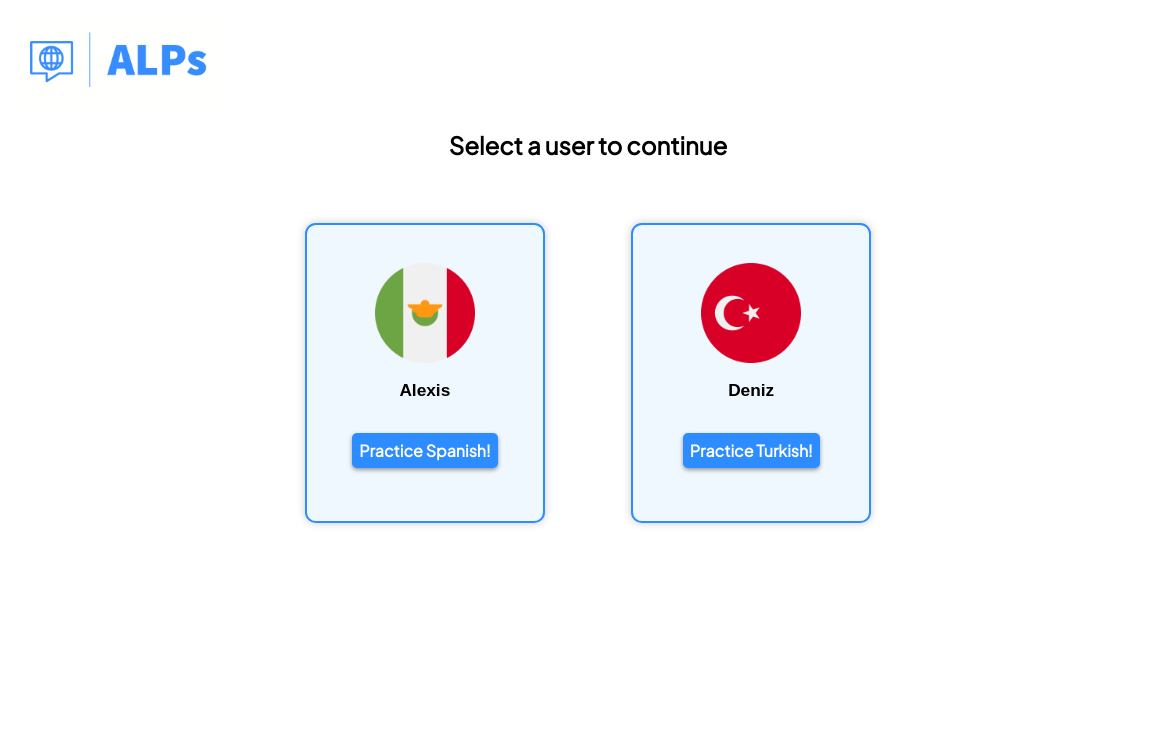
Test: Dashboard flow › should let you view Alexis's dashboard
Click the button "Practice Spanish!".
click(425, 451)  # box [352,433,498,468]
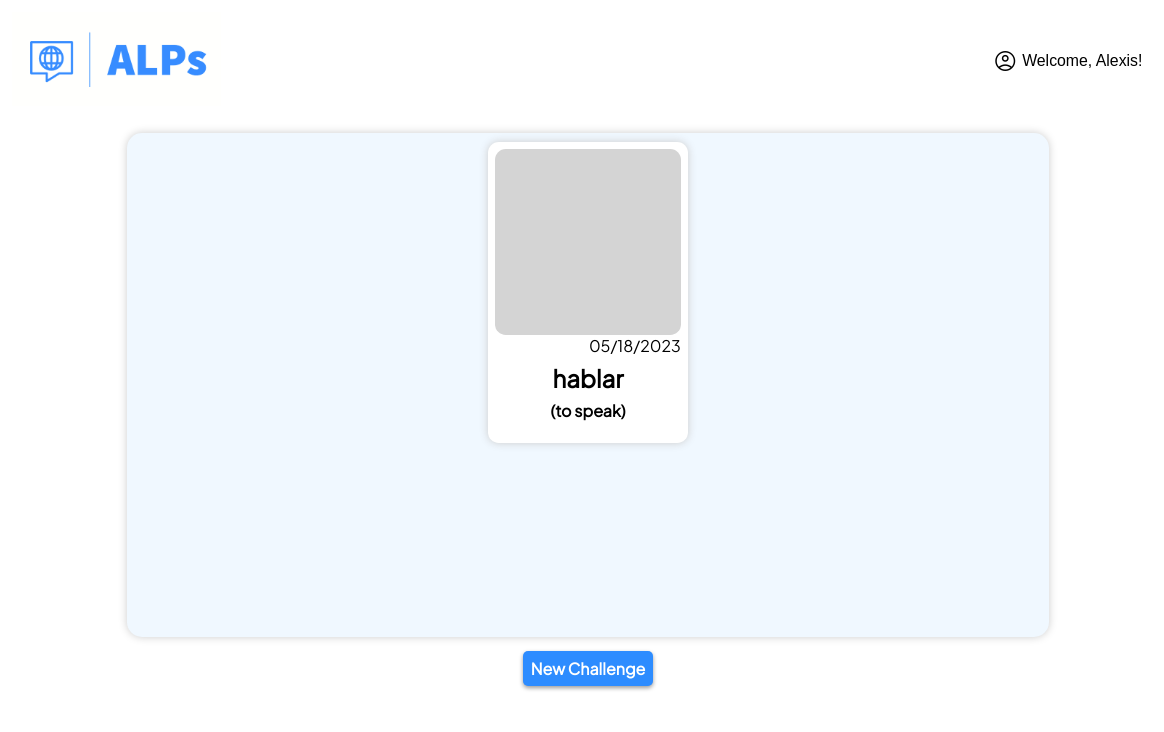
Now the button "New Challenge" is shown, box [524,651,653,686]
Now the heading "(to speak)" is shown, box [550,400,626,421]
